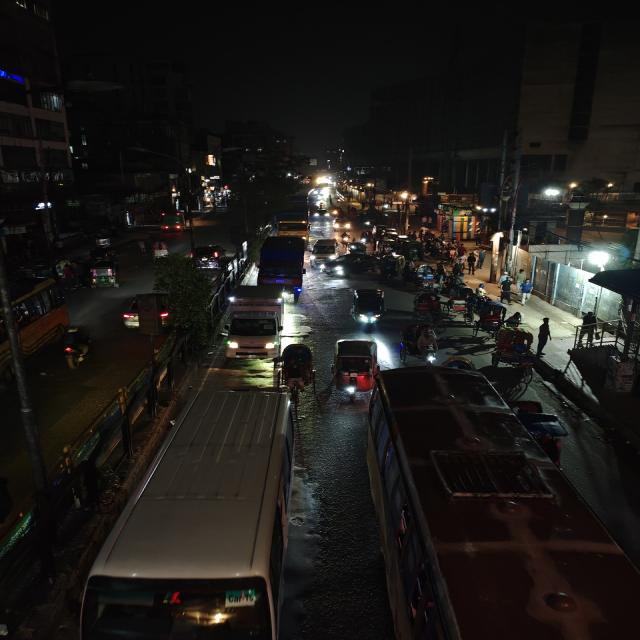bus: (363, 366, 637, 640), (84, 389, 296, 640), (0, 274, 71, 366)
car: (120, 291, 174, 332), (323, 254, 380, 278), (188, 242, 227, 270), (311, 238, 339, 262)
cng: (330, 336, 381, 401), (346, 285, 388, 332), (87, 258, 124, 290), (345, 241, 368, 254)
motorcycle: (62, 323, 93, 371)
pedestrian: (576, 309, 600, 346), (533, 315, 553, 353), (516, 277, 537, 305), (497, 275, 516, 305), (506, 310, 525, 332), (466, 252, 480, 274)
rickshaw: (276, 340, 316, 400), (398, 321, 441, 361), (410, 290, 449, 324), (466, 300, 507, 332), (148, 238, 172, 262)
truck: (222, 284, 286, 358), (254, 235, 310, 294), (275, 209, 309, 237)
